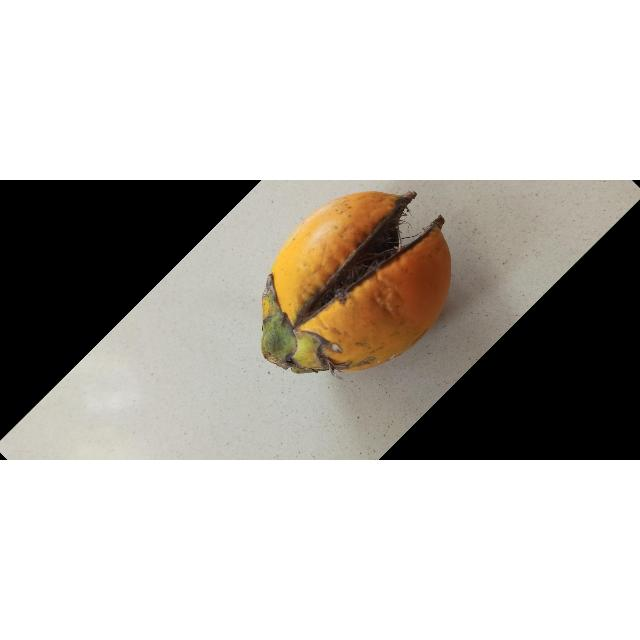damaged: (262, 192, 453, 375)
